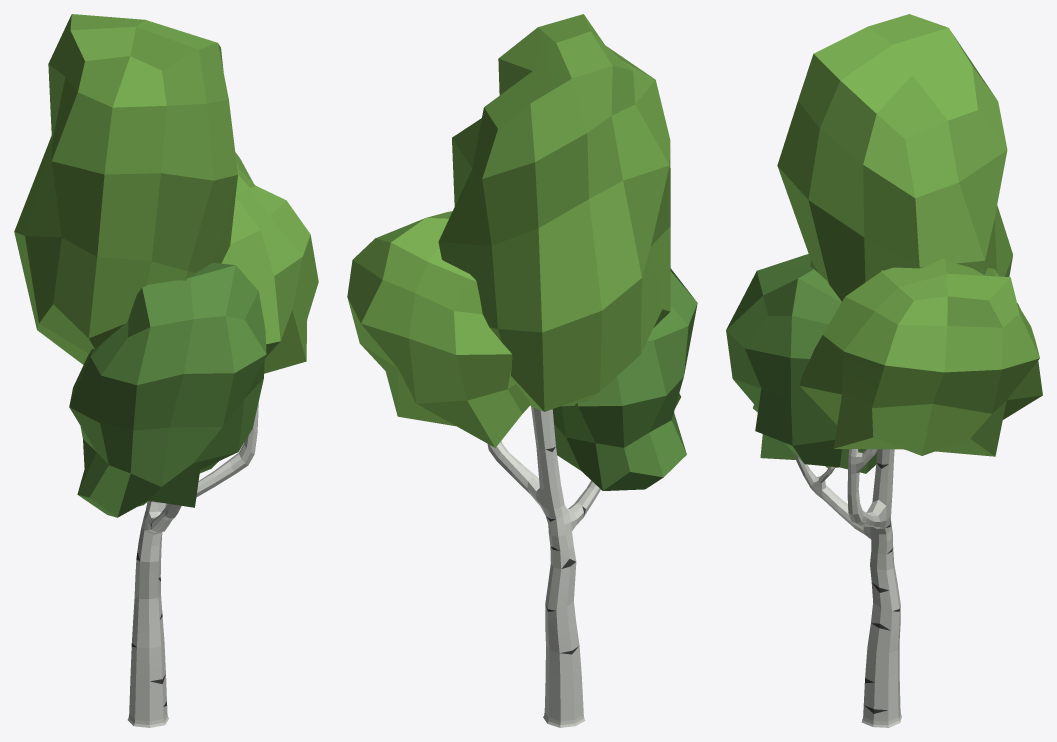
The model's file is BirchTree_3.glb.
3 renders of one model, left to right at view 1: azimuth 30°, elevation 25°; view 2: azimuth 150°, elevation 25°; view 3: azimuth 270°, elevation 25°, orthographic. The views are drawn at different scales.
Parts seen in each view (by area): view 1: BirchTree_3; view 2: BirchTree_3; view 3: BirchTree_3.
Boxes of the visible parts, box(x1,y1,x2,y2) form: BirchTree_3: box(14, 14, 318, 727); BirchTree_3: box(347, 14, 697, 727); BirchTree_3: box(726, 14, 1042, 727).
Size of the model in its own units: 3.46 by 8.44 by 3.54.
